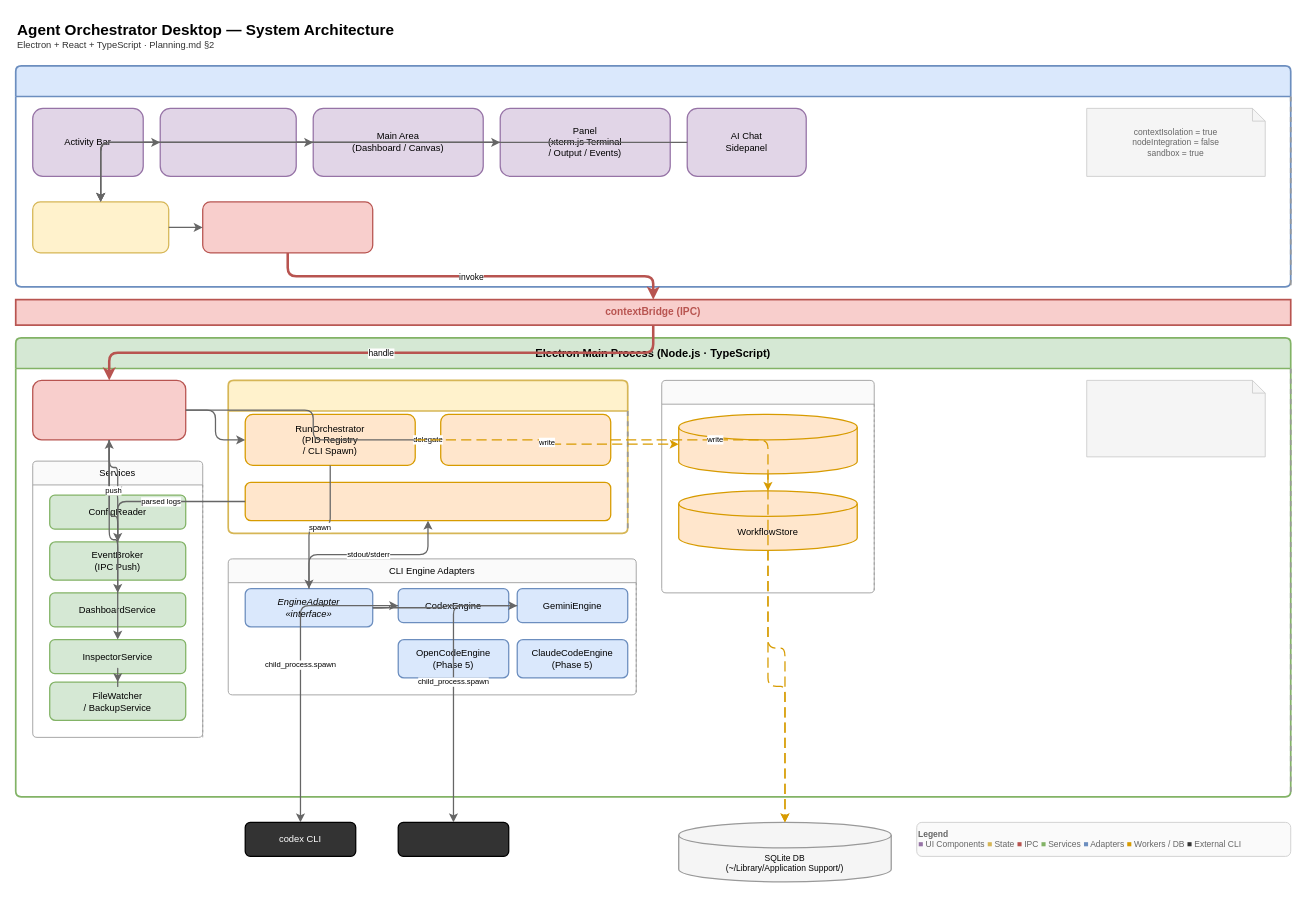
The diagram is 1306 pixels wide and 897 high, and some of its shapes have lost their labels. Each missing label, with the box of its shape:
ALLOWED_COMMANDS: ['codex', 'gemini'] shell: false Env sanitization: (1086, 380, 1265, 457)
Electron Renderer Process (React · Vite · TypeScript): (14, 65, 1291, 287)
gemini CLI: (397, 821, 509, 857)
IPC Handlers (run / workflow / inspector): (32, 379, 186, 440)
IPC Hooks (window.electronAPI): (202, 201, 373, 253)
LogTransformer (50MB Ring Buffer / Adaptive Flush): (244, 481, 611, 521)
RunStore: (678, 413, 857, 474)
Sidebar (Org / Console / Workflow / Inspect): (159, 107, 296, 177)
Stores (better-sqlite3 · WAL): (661, 380, 874, 593)
Worker Threads: (227, 379, 628, 534)
WorkflowEngine (State Machine / Fan-out): (440, 413, 611, 466)
Zustand Stores (UI State): (32, 201, 169, 253)
